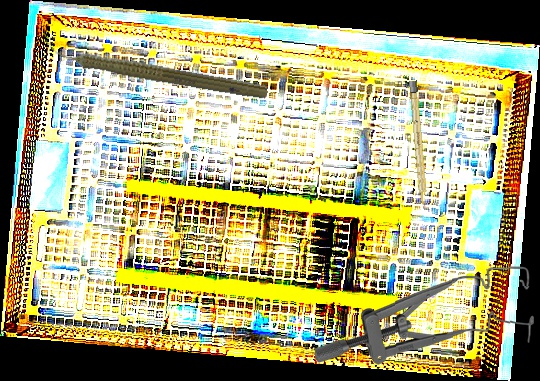Handpiece: (39, 37, 270, 104)
Scalpel Handle: (408, 80, 429, 208)
Speculum: (313, 265, 535, 366)
